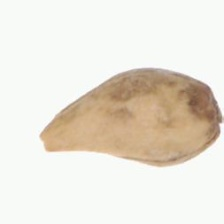L1: (208, 87, 224, 139), (38, 129, 60, 154)
L2: (39, 67, 223, 167)
